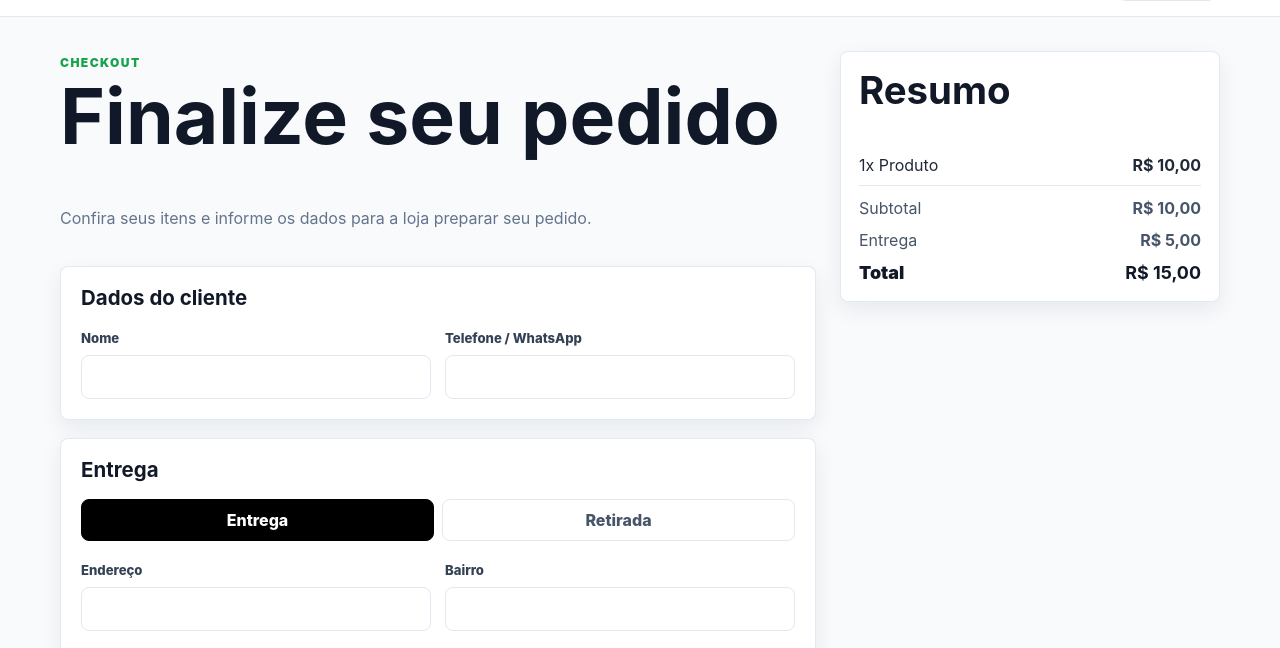
it: CheckoutPage › mostra mensagem amigavel para HTTP 429
Expected: the heading "Finalize seu pedido" is shown, [60,80,816,154]
Type "Cliente Teste" into the field labelled "Nome" at (256, 377), box [81,355,431,399]
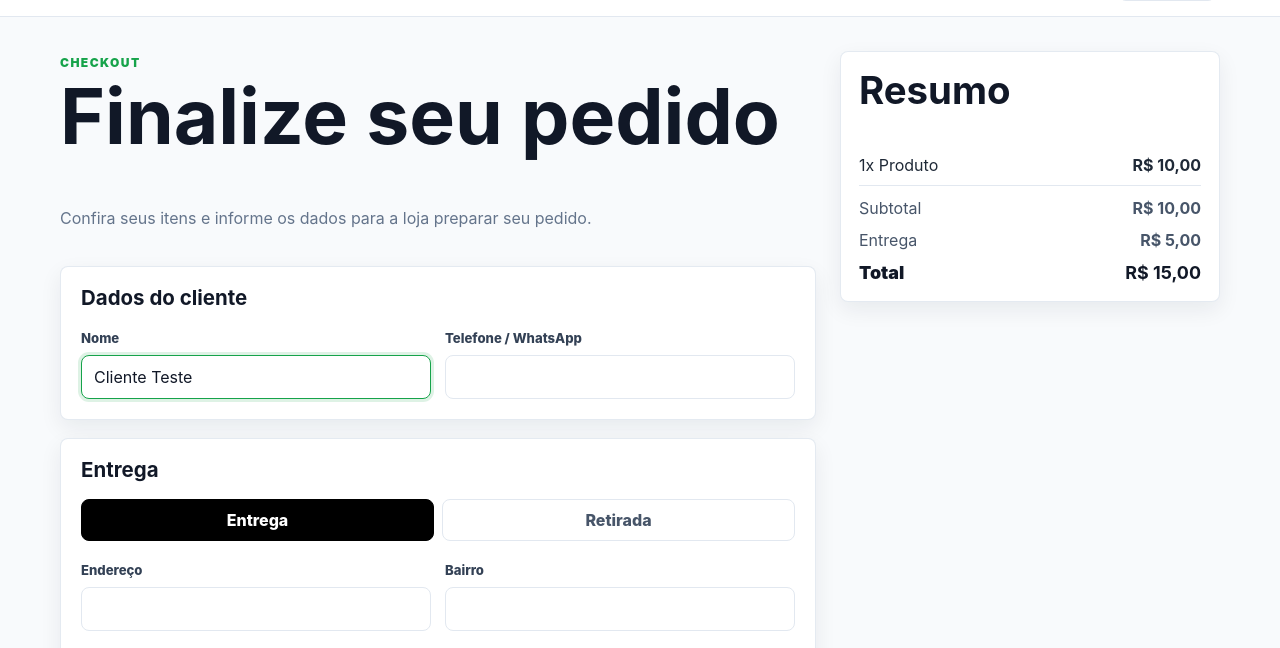
Type "000000000" into the field labelled "Telefone / WhatsApp" at (620, 377), box [445,355,795,399]
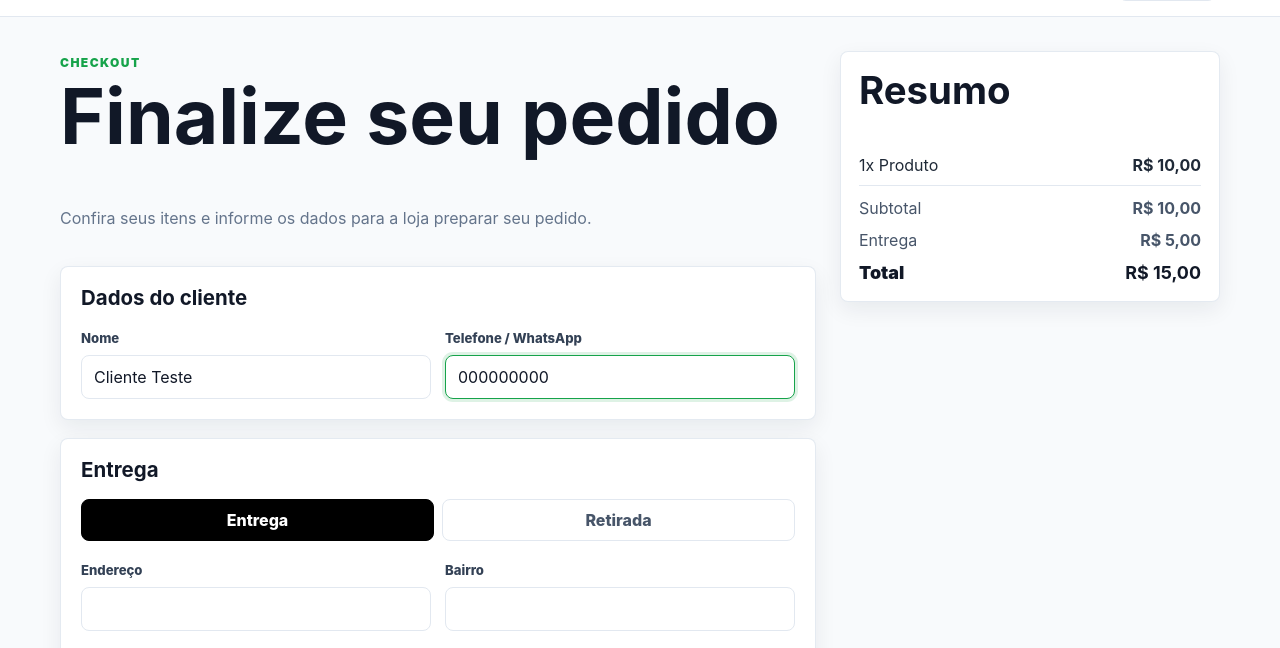
Click the button "Retirada" at (618, 520), box [442,499,795,541]
(page scrolled)
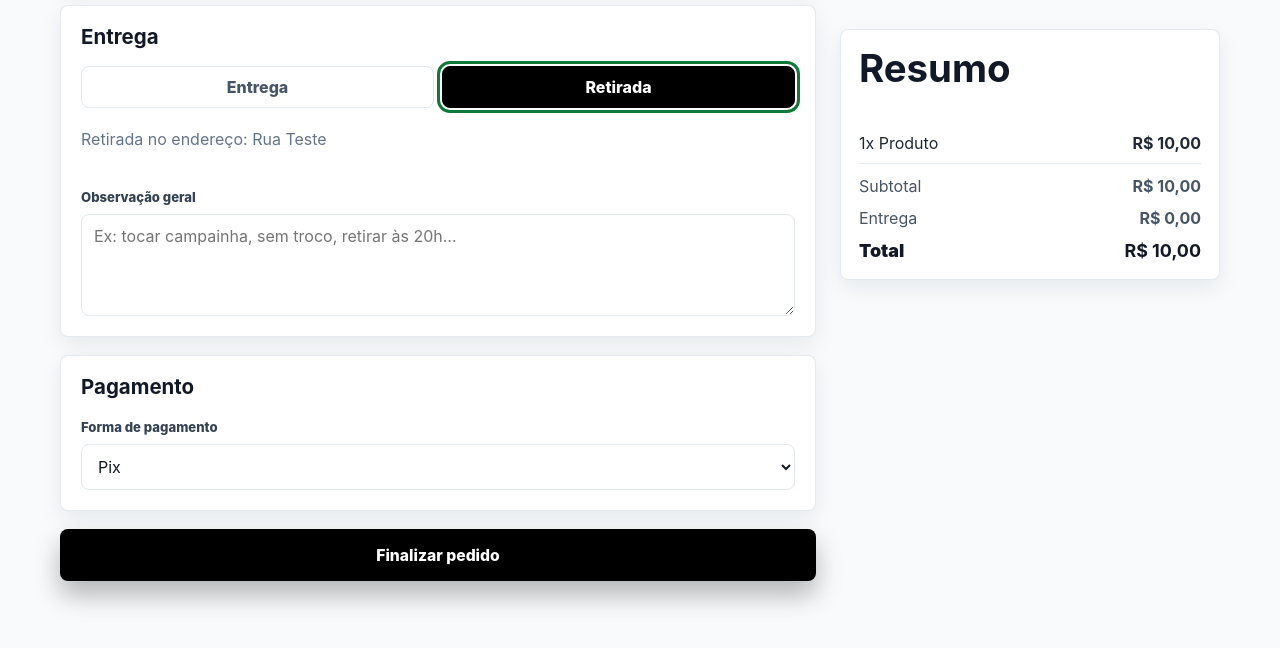
Click the button "Finalizar pedido" at (438, 555), box [60,529,816,581]
(page scrolled)
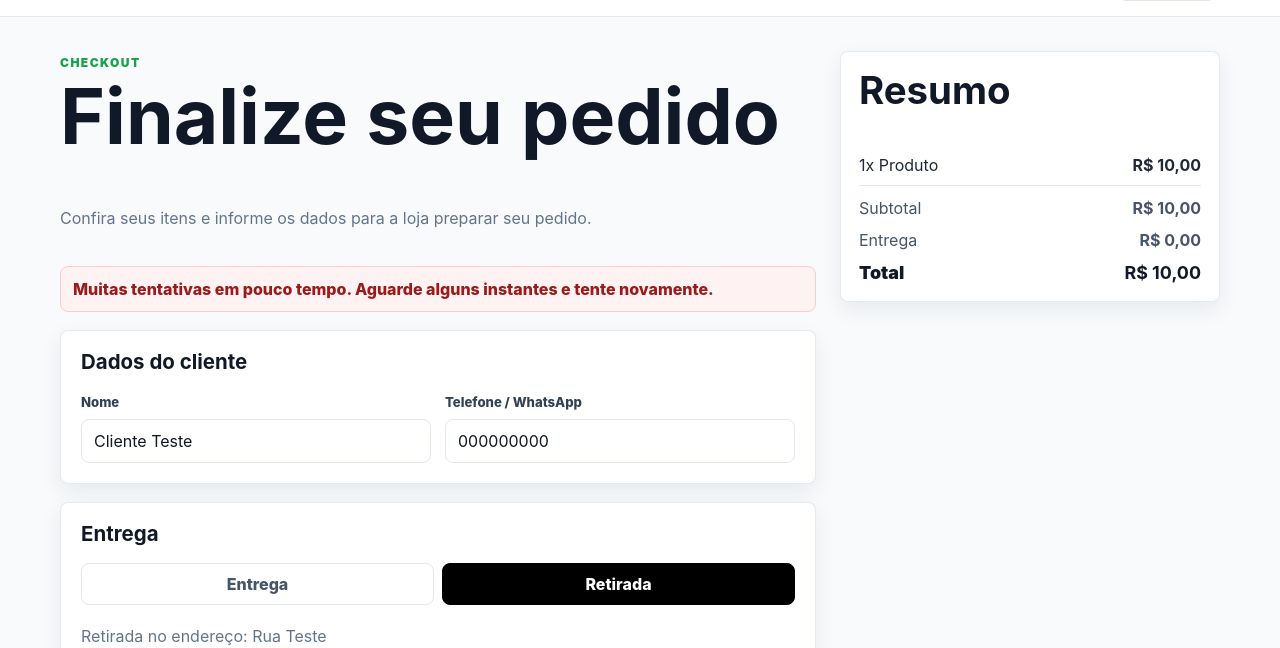
Expected: the text "Muitas tentativas em pouco tempo. Aguarde alguns instantes e tente novamente." is shown, [60,266,816,312]
